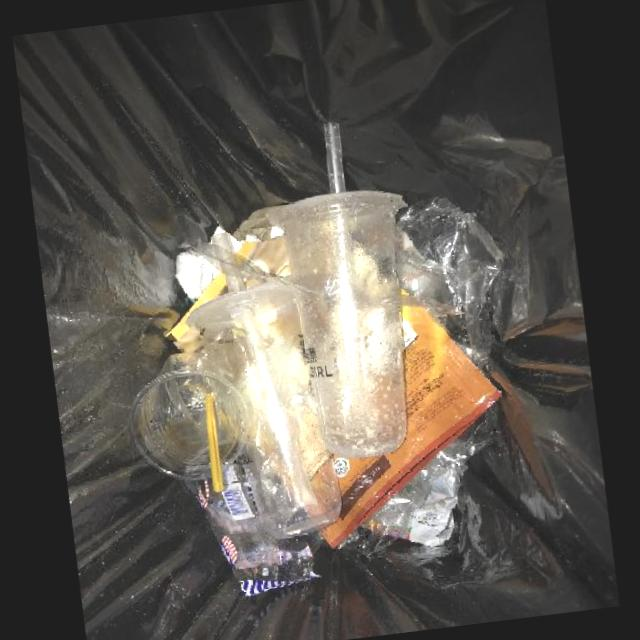bao_bi_thuc_pham: (319, 306, 500, 549), (196, 460, 324, 597), (361, 437, 482, 546)
hop_nhua: (186, 285, 342, 539), (265, 190, 407, 459)
ong_hut_nhua: (210, 231, 246, 292), (323, 122, 345, 194)
tui_ni_long: (394, 197, 509, 373)
